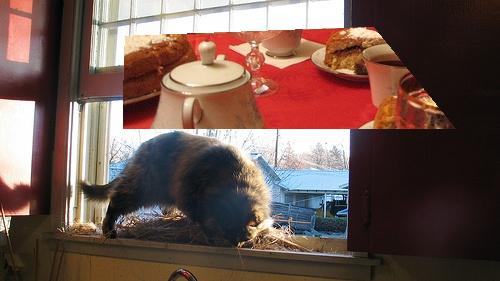tampered: (124, 28, 456, 129)
